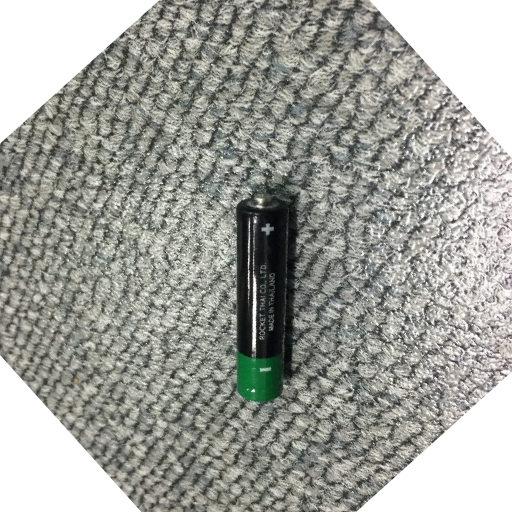Battery_0: (228, 184, 301, 407)
